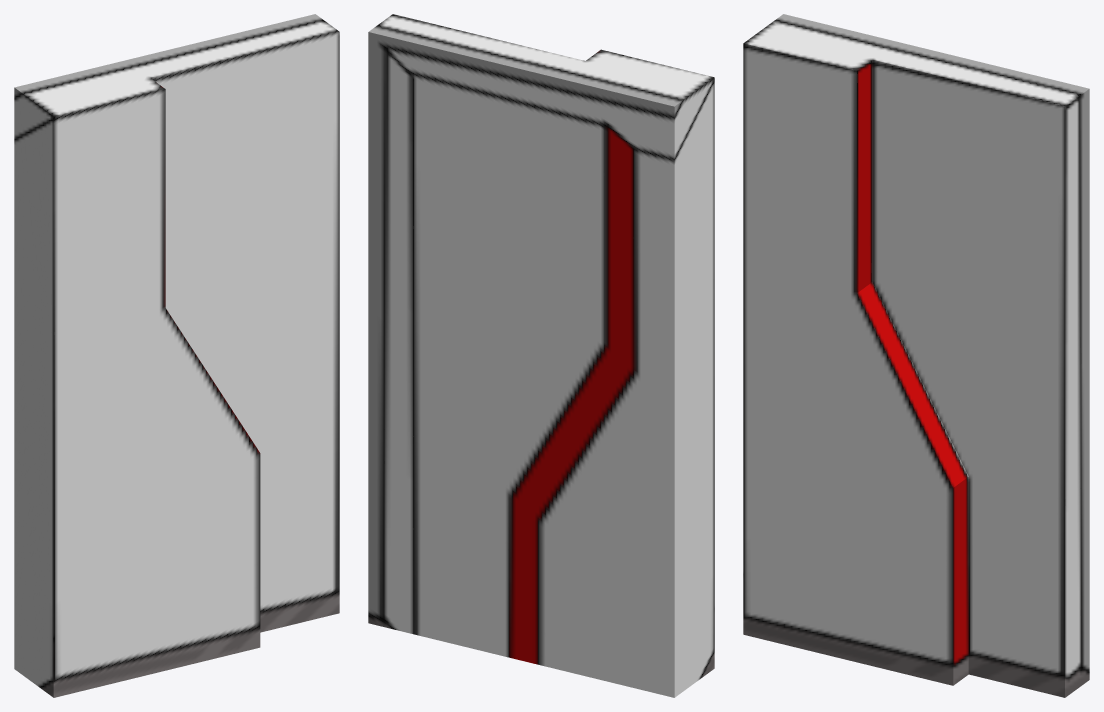
File: door.fbx
3 renders of one model, left to right at view 1: azimuth 30°, elevation 25°; view 2: azimuth 150°, elevation 25°; view 3: azimuth 330°, elevation 25°, orthographic.
Visible parts, largest first — view 1: Cube.012; view 2: Cube.012; view 3: Cube.012.
Part boxes in pixels (x1,y1,x2,y2): Cube.012: (14,14,339,697); Cube.012: (368,14,714,697); Cube.012: (743,14,1089,697).
Size of the model in its own units: 92.67 by 171 by 21.03.
